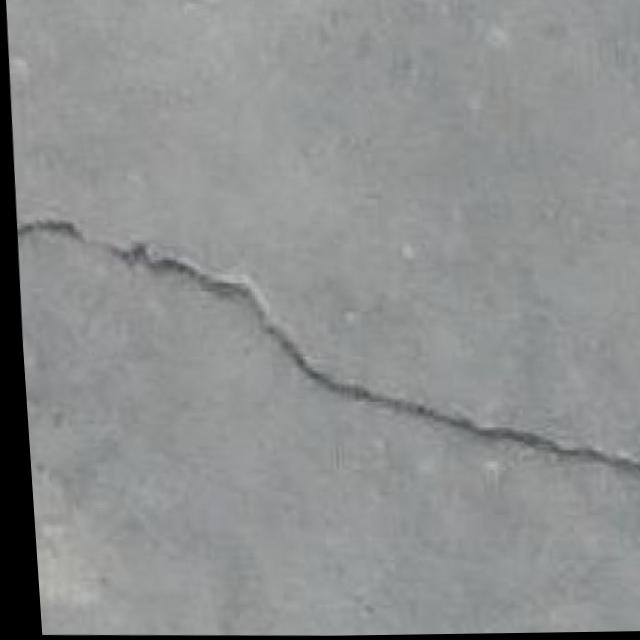Crack: (10, 191, 640, 517)
